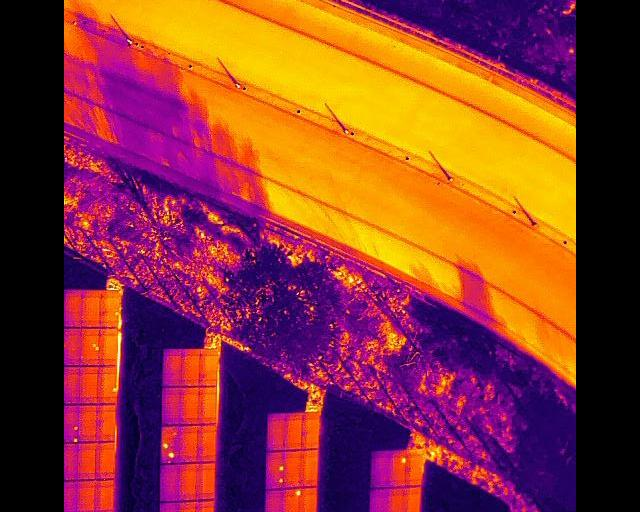Cell: (98, 364, 116, 403), (101, 289, 119, 326), (391, 450, 406, 486), (283, 485, 301, 512)
Cell-Multi: (266, 449, 285, 489), (80, 328, 100, 365), (161, 424, 178, 463), (64, 402, 79, 442)
No-Anomaly: (178, 462, 197, 501), (179, 424, 198, 463), (198, 424, 217, 462), (97, 402, 116, 440), (197, 462, 216, 500), (77, 440, 96, 478), (162, 386, 181, 424), (163, 348, 182, 386), (180, 386, 199, 424), (371, 450, 391, 486), (96, 441, 115, 478), (82, 288, 100, 327), (199, 385, 217, 424), (182, 347, 200, 386), (267, 412, 285, 450), (301, 448, 319, 486), (80, 365, 98, 403), (64, 289, 82, 327), (94, 478, 114, 512), (199, 348, 217, 385), (301, 411, 319, 448), (160, 464, 178, 501), (285, 448, 302, 486), (64, 327, 81, 365), (80, 403, 97, 441), (99, 326, 116, 364), (285, 412, 302, 449), (64, 365, 80, 403), (77, 479, 95, 512), (406, 449, 421, 485), (64, 442, 78, 480), (265, 487, 283, 512), (301, 484, 317, 512), (404, 484, 420, 512), (370, 486, 387, 512), (387, 486, 404, 512), (64, 480, 77, 512), (196, 500, 215, 512), (161, 500, 178, 512), (177, 501, 195, 512)
